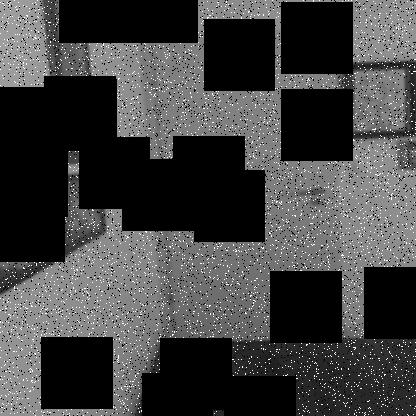Porte: (139, 26, 346, 346)
